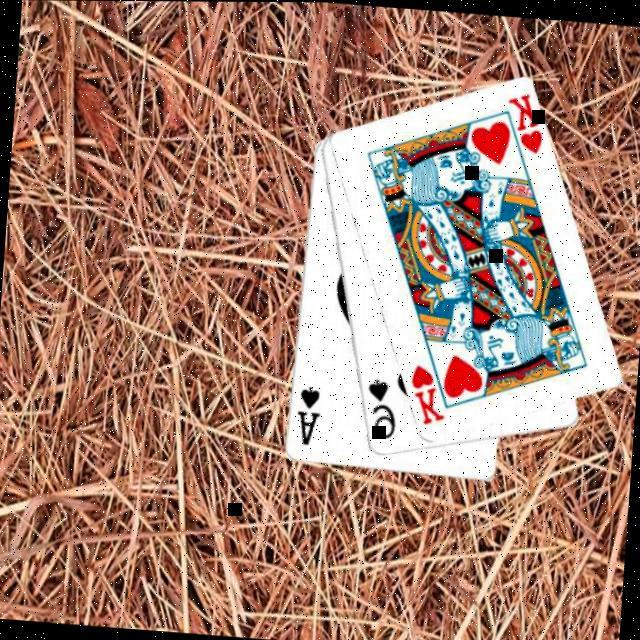9S: (359, 376, 400, 444)
AS: (290, 385, 323, 451)
KH: (402, 362, 449, 431), (499, 91, 546, 158)
